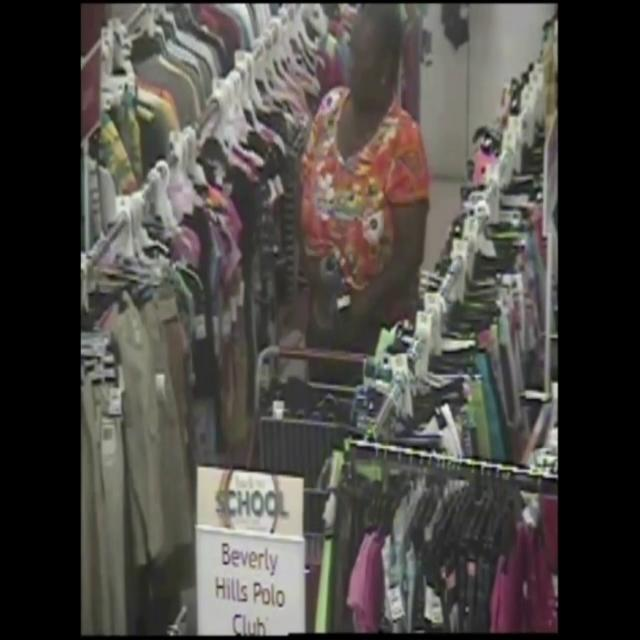shoplifting: (273, 0, 425, 377)
